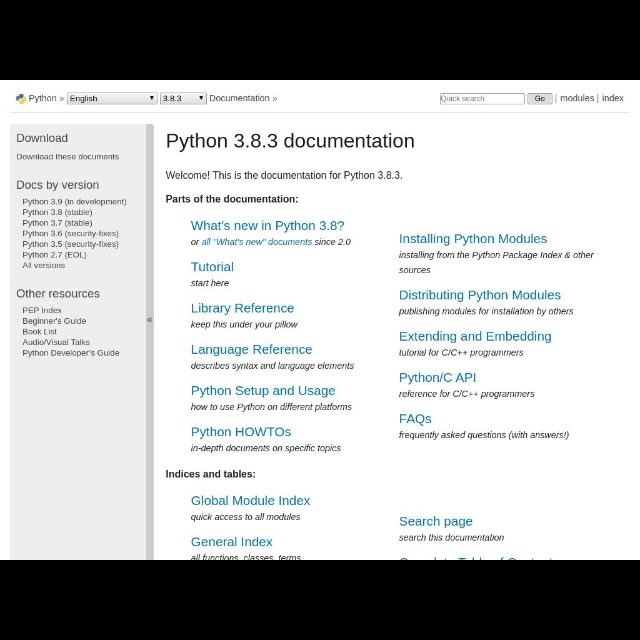icon: (150, 96, 154, 100), (200, 96, 202, 100)
image: (16, 95, 26, 104)
input: (441, 94, 525, 104)
panel: (10, 124, 154, 558)
spinner: (67, 92, 157, 104), (160, 94, 206, 104)
text: (168, 134, 414, 152), (400, 251, 594, 273), (166, 171, 402, 181), (401, 331, 552, 344), (400, 290, 560, 302), (192, 221, 344, 233), (399, 234, 546, 246), (399, 307, 573, 317), (192, 386, 334, 398), (399, 431, 569, 441), (192, 444, 341, 454), (192, 345, 312, 357), (192, 403, 352, 412), (191, 362, 353, 370), (192, 238, 351, 246), (399, 348, 523, 358), (192, 303, 294, 315), (400, 389, 534, 398), (192, 496, 310, 506), (192, 427, 290, 439), (192, 320, 298, 330), (166, 195, 298, 203), (18, 180, 98, 192), (400, 373, 476, 385), (192, 514, 300, 522), (400, 534, 504, 542), (22, 350, 120, 358), (23, 241, 118, 249), (23, 200, 126, 207), (400, 518, 472, 528), (167, 470, 256, 478), (16, 290, 100, 298), (191, 554, 301, 560), (192, 538, 272, 546), (17, 154, 119, 160), (23, 232, 118, 238), (23, 220, 92, 228), (24, 252, 86, 260), (24, 318, 86, 326), (22, 210, 92, 217), (210, 95, 276, 102), (190, 262, 233, 272), (17, 134, 68, 142), (22, 339, 90, 345), (400, 414, 432, 426), (442, 95, 484, 103), (29, 95, 63, 104), (23, 263, 65, 269), (560, 95, 594, 102), (23, 308, 61, 314), (70, 95, 98, 103), (22, 329, 58, 335), (192, 280, 228, 286), (602, 94, 624, 102), (164, 96, 182, 102), (536, 96, 544, 102)
textbutton: (528, 94, 552, 104)
toolbar: (1, 81, 639, 113)
